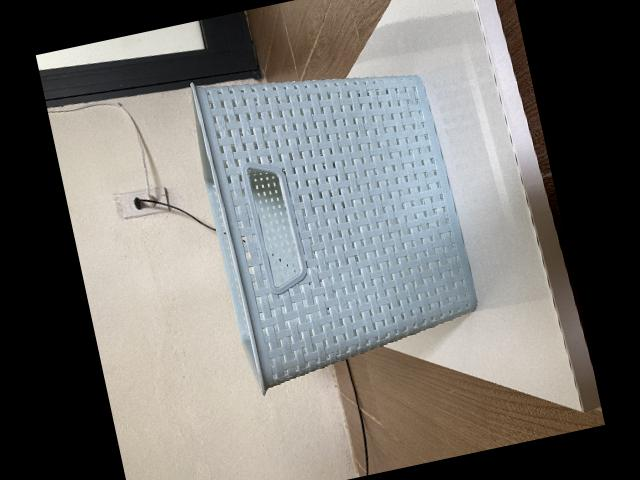cart: (191, 71, 479, 391)
